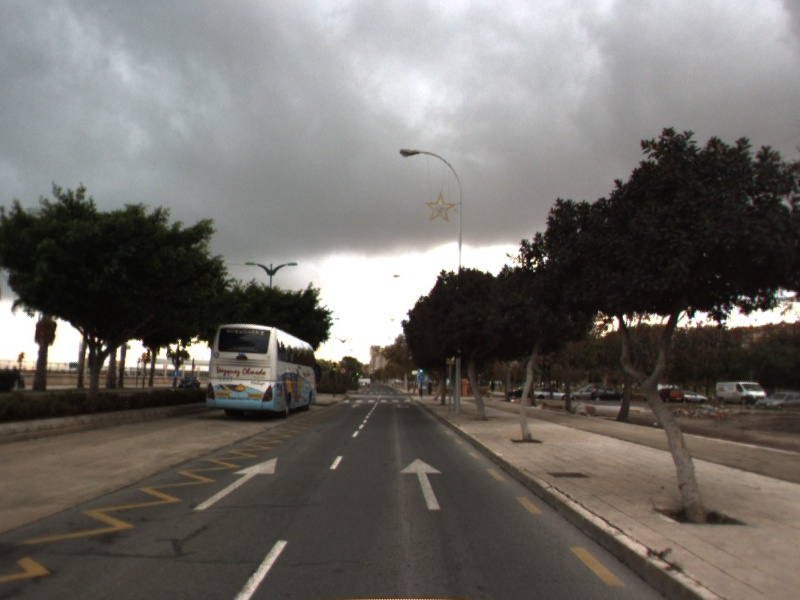STRAIGHT: (190, 454, 279, 513), (398, 456, 443, 511)
